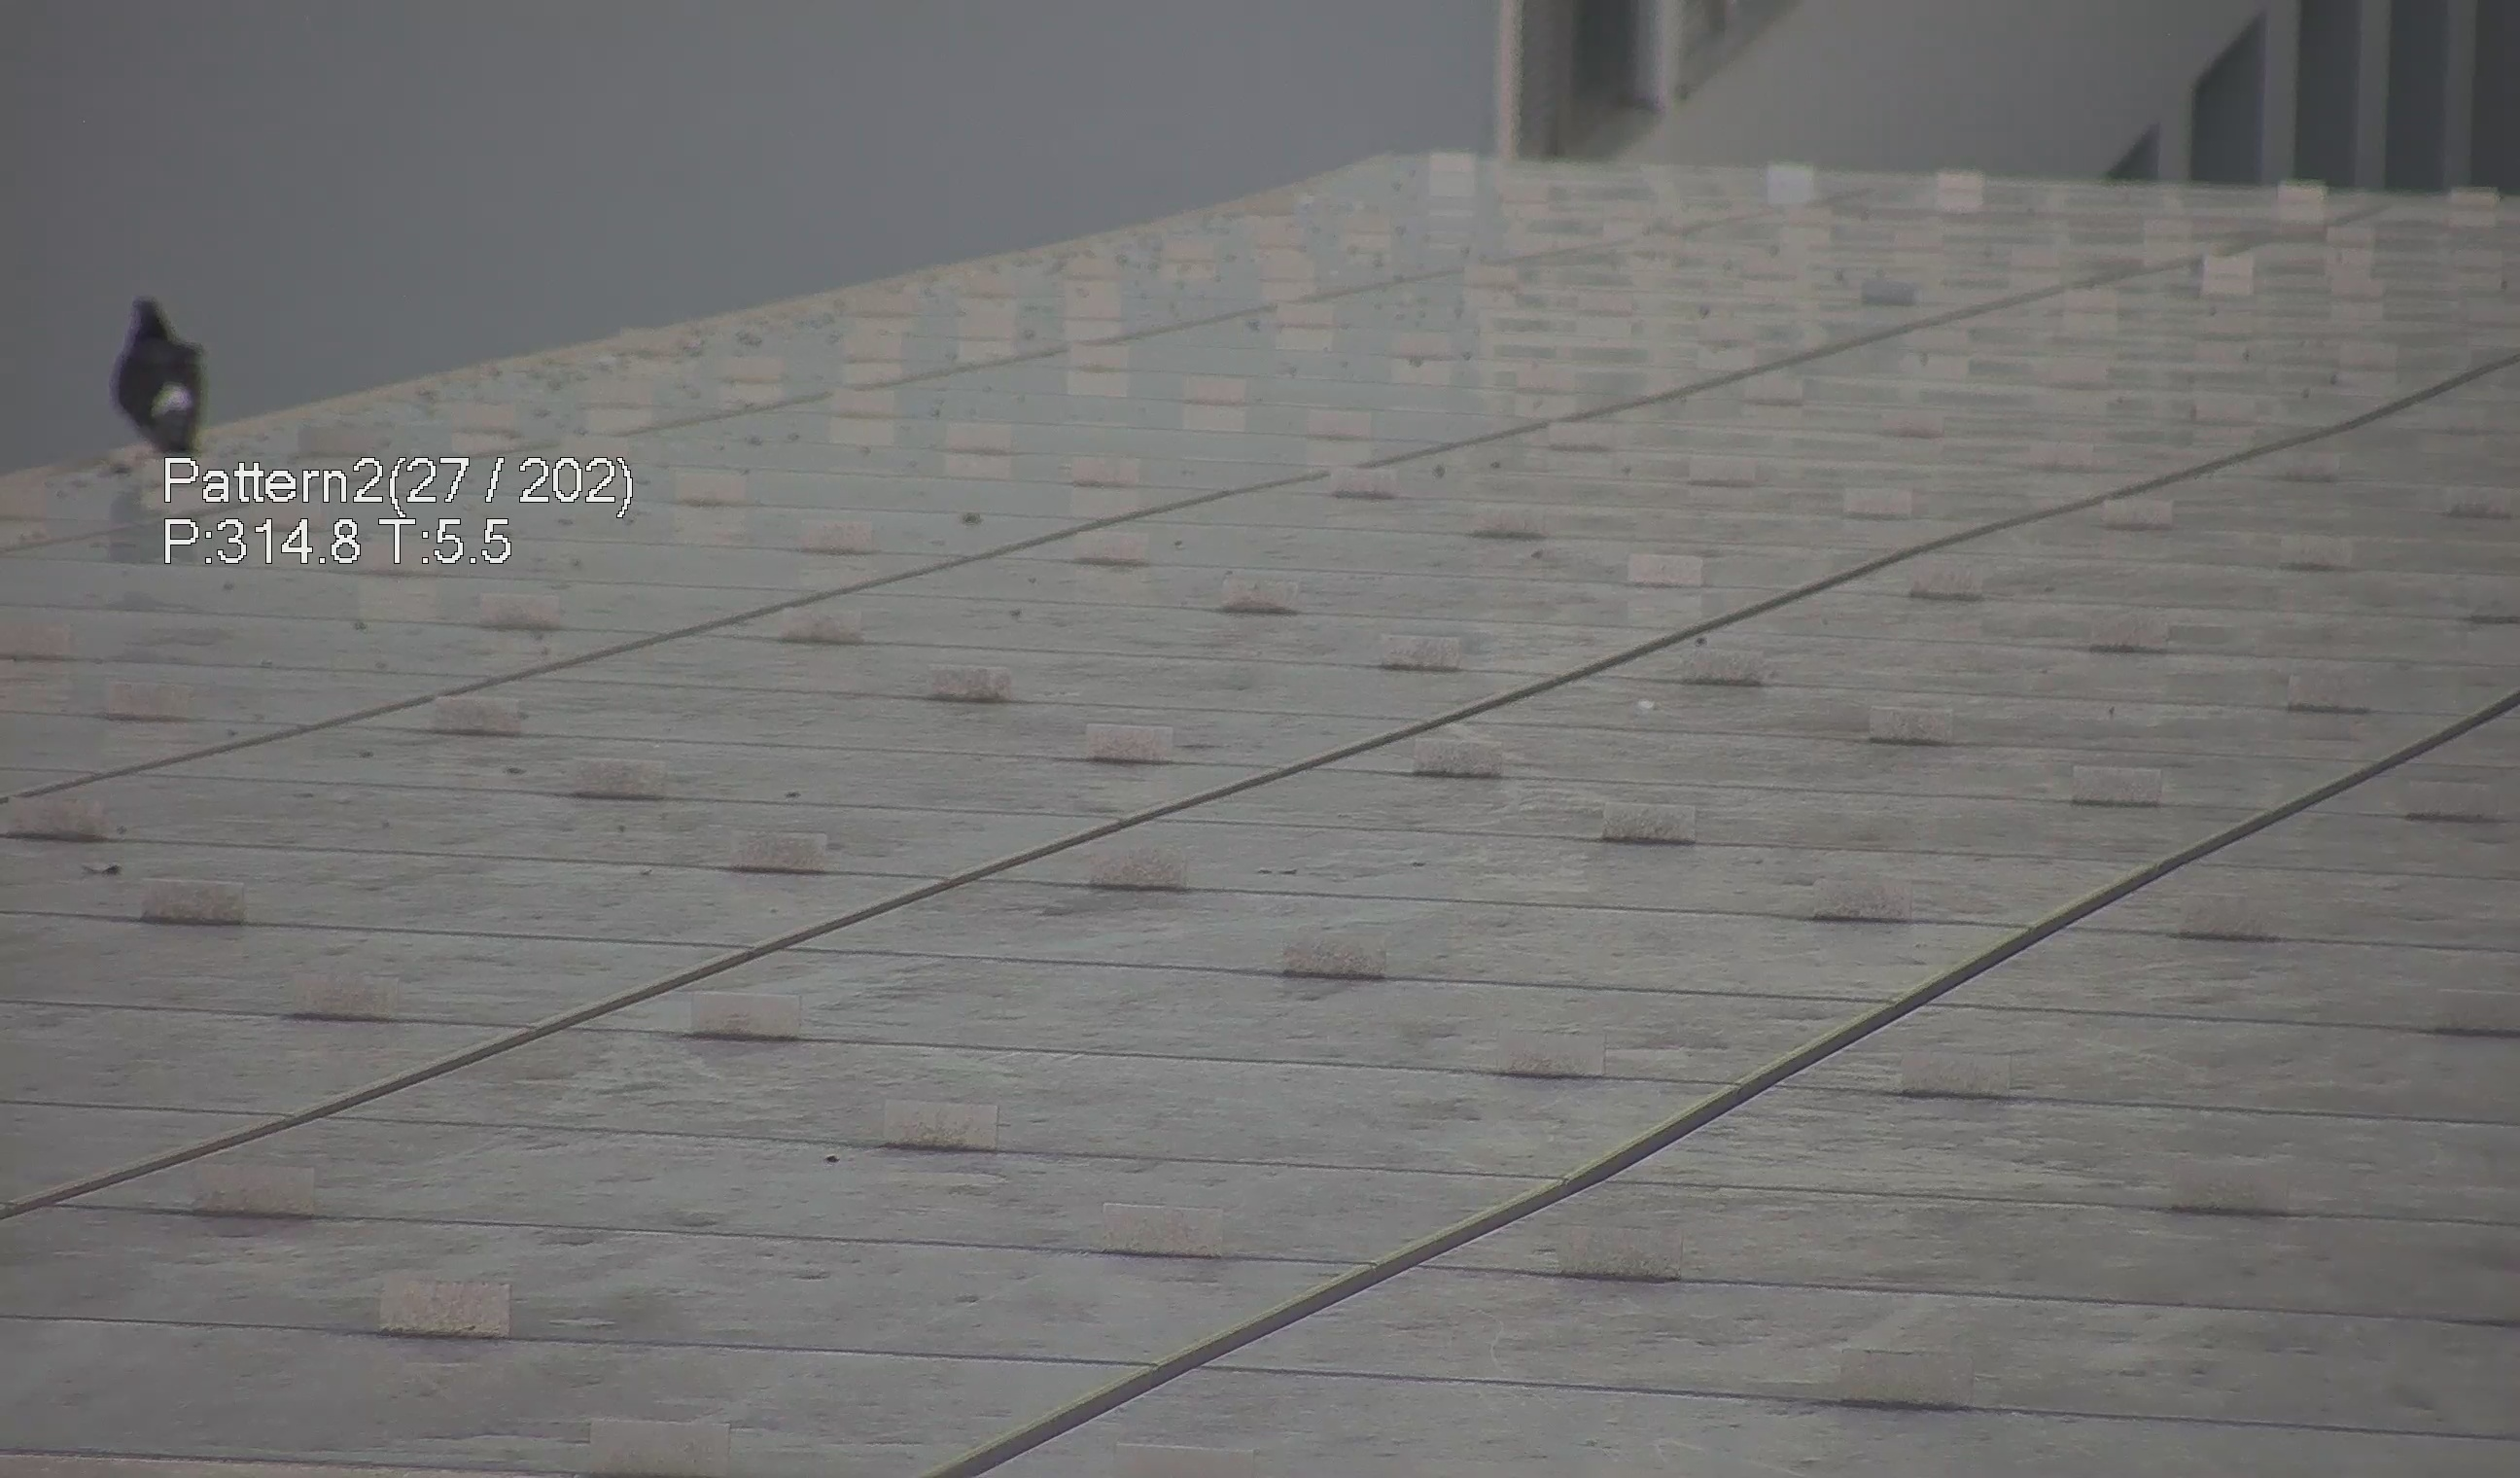Pigeon: (90, 282, 223, 459)
